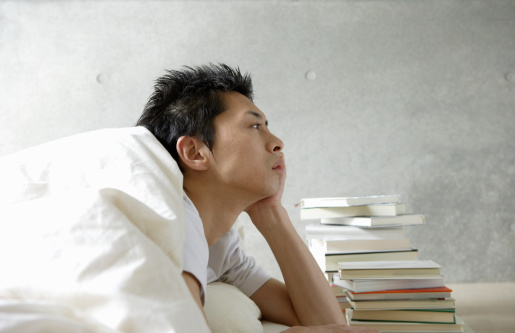deitado: (107, 56, 357, 333)
